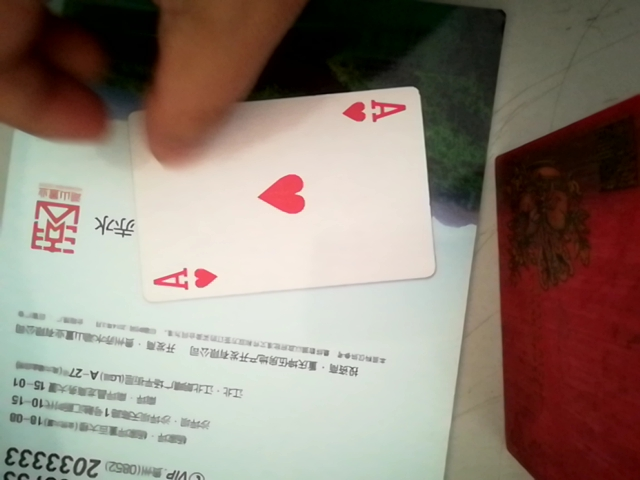hx a: (119, 80, 431, 307)
